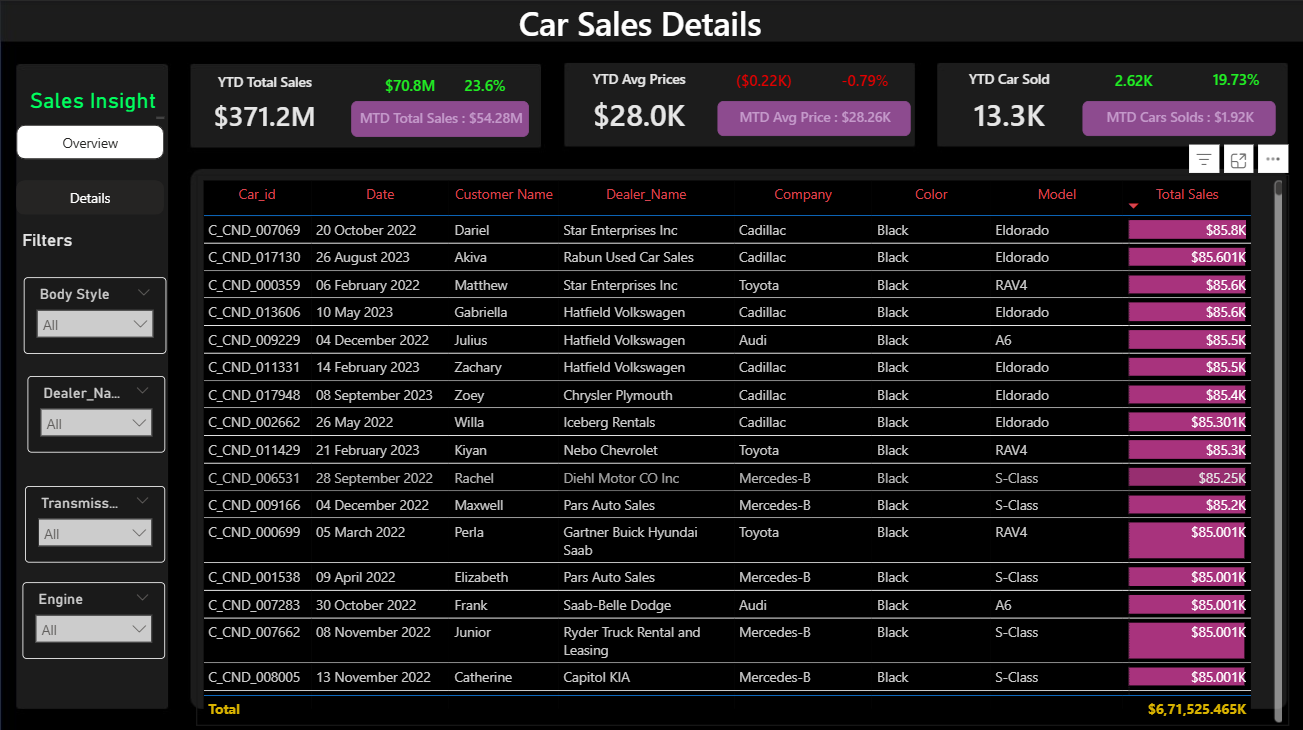

What the dashboard file says about the page in this screenshot:
{"tool":"powerbi","page":{"name":"Details","canvas":[1280,720],"ordinal":1},"visuals":[{"type":"card","title":"YTD Total Sales","fields":{"Values":["car_data.YTD Total Sales"]},"box":[190.7,69.8,139.5,73.3],"z":0},{"type":"card","fields":{"Values":["car_data.Sales Difference"]},"box":[352.3,67.4,101.2,34.9],"z":1000},{"type":"card","fields":{"Values":["car_data.YOY Sales Growth"]},"box":[425.6,67.4,101.2,34.9],"z":2000},{"type":"card","fields":{"Values":["car_data.MTD KPI"]},"box":[344.2,97.7,174.4,35],"z":3000},{"type":"card","title":"YTD Avg Prices","fields":{"Values":["car_data.YTD Avg Price"]},"box":[555.8,67.4,143,75.6],"z":4000},{"type":"card","fields":{"Values":["car_data.Avg Price Diff"]},"box":[698.8,62.8,101.2,34.9],"z":5000},{"type":"card","fields":{"Values":["car_data.YOY Avg Price Growth"]},"box":[799.2,63.2,100.8,35.2],"z":6000},{"type":"card","fields":{"Values":["car_data.MTD Avg Price KPI"]},"box":[704.5,98.4,189.5,34],"z":7000},{"type":"card","title":"YTD Car Sold","fields":{"Values":["car_data.YTD Car Solds"]},"box":[919.5,68,143.3,75.3],"z":8000},{"type":"card","fields":{"Values":["car_data.Cars Sold Diff"]},"box":[1062.8,63.2,100.8,35.2],"z":9000},{"type":"card","fields":{"Values":["car_data.YOY Car Sold Growth"]},"box":[1163.6,61.9,100.8,35.2],"z":10000},{"type":"card","fields":{"Values":["car_data.MTD Cars Sold KPI"]},"box":[1062.8,98.4,189.5,34],"z":11000},{"type":"textbox","title":"Car Sales Details","box":[504.1,0,389.9,40.1],"z":12000},{"type":"slicer","fields":{"Values":["car_data.Body Style"]},"box":[23.1,270.9,139.7,75.3],"z":13000},{"type":"slicer","fields":{"Values":["car_data.Dealer_Name"]},"box":[26.7,368,134.8,75.3],"z":14000},{"type":"slicer","fields":{"Values":["car_data.Transmission"]},"box":[24.3,476.1,137.3,75.3],"z":15000},{"type":"slicer","fields":{"Values":["car_data.Engine"]},"box":[21.9,570.9,139.7,75.3],"z":16000},{"type":"textbox","title":"Filters","box":[17,224.7,149.4,20.6],"z":17000},{"type":"tableEx","fields":{"Values":["car_data.Car_id","car_data.Date","car_data.Customer Name","car_data.Dealer_Name","car_data.Company","car_data.Color","car_data.Model","car_data.Price ($)"]},"box":[193.1,170.1,1071.3,541.7],"z":18000},{"type":"textbox","title":"Sales Insight","box":[24.3,85,142.1,36.4],"z":19000},{"type":"pageNavigator","box":[15.8,121.5,145.8,89.9],"z":20000}]}

Visuals, with their boxes on the page's 1280x720 design canvas (x1, y1, x2, y2). These are canvas units, not pixel positions in the 1303x730 screenshot, which may show the page scaled, cropped or inside an application window:
"YTD Total Sales" card: pyautogui.locateOnScreen(191, 70, 330, 143)
card - car_data.Sales Difference: pyautogui.locateOnScreen(352, 67, 454, 102)
card - car_data.YOY Sales Growth: pyautogui.locateOnScreen(426, 67, 527, 102)
card - car_data.MTD KPI: pyautogui.locateOnScreen(344, 98, 519, 133)
"YTD Avg Prices" card: pyautogui.locateOnScreen(556, 67, 699, 143)
card - car_data.Avg Price Diff: pyautogui.locateOnScreen(699, 63, 800, 98)
card - car_data.YOY Avg Price Growth: pyautogui.locateOnScreen(799, 63, 900, 98)
card - car_data.MTD Avg Price KPI: pyautogui.locateOnScreen(704, 98, 894, 132)
"YTD Car Sold" card: pyautogui.locateOnScreen(920, 68, 1063, 143)
card - car_data.Cars Sold Diff: pyautogui.locateOnScreen(1063, 63, 1164, 98)
card - car_data.YOY Car Sold Growth: pyautogui.locateOnScreen(1164, 62, 1264, 97)
card - car_data.MTD Cars Sold KPI: pyautogui.locateOnScreen(1063, 98, 1252, 132)
"Car Sales Details" textbox: pyautogui.locateOnScreen(504, 0, 894, 40)
slicer - car_data.Body Style: pyautogui.locateOnScreen(23, 271, 163, 346)
slicer - car_data.Dealer_Name: pyautogui.locateOnScreen(27, 368, 162, 443)
slicer - car_data.Transmission: pyautogui.locateOnScreen(24, 476, 162, 551)
slicer - car_data.Engine: pyautogui.locateOnScreen(22, 571, 162, 646)
"Filters" textbox: pyautogui.locateOnScreen(17, 225, 166, 245)
tableEx - car_data.Car_id x car_data.Date: pyautogui.locateOnScreen(193, 170, 1264, 712)
"Sales Insight" textbox: pyautogui.locateOnScreen(24, 85, 166, 121)
pageNavigator: pyautogui.locateOnScreen(16, 122, 162, 211)
